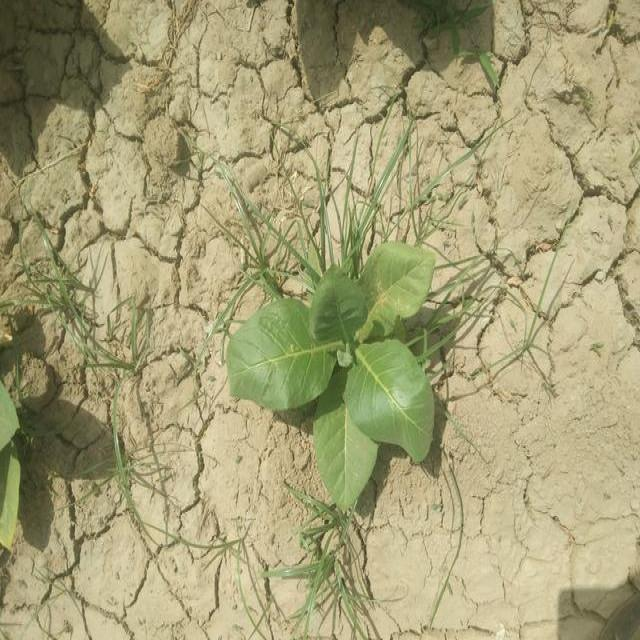crop: (236, 251, 451, 500), (0, 383, 24, 544)
